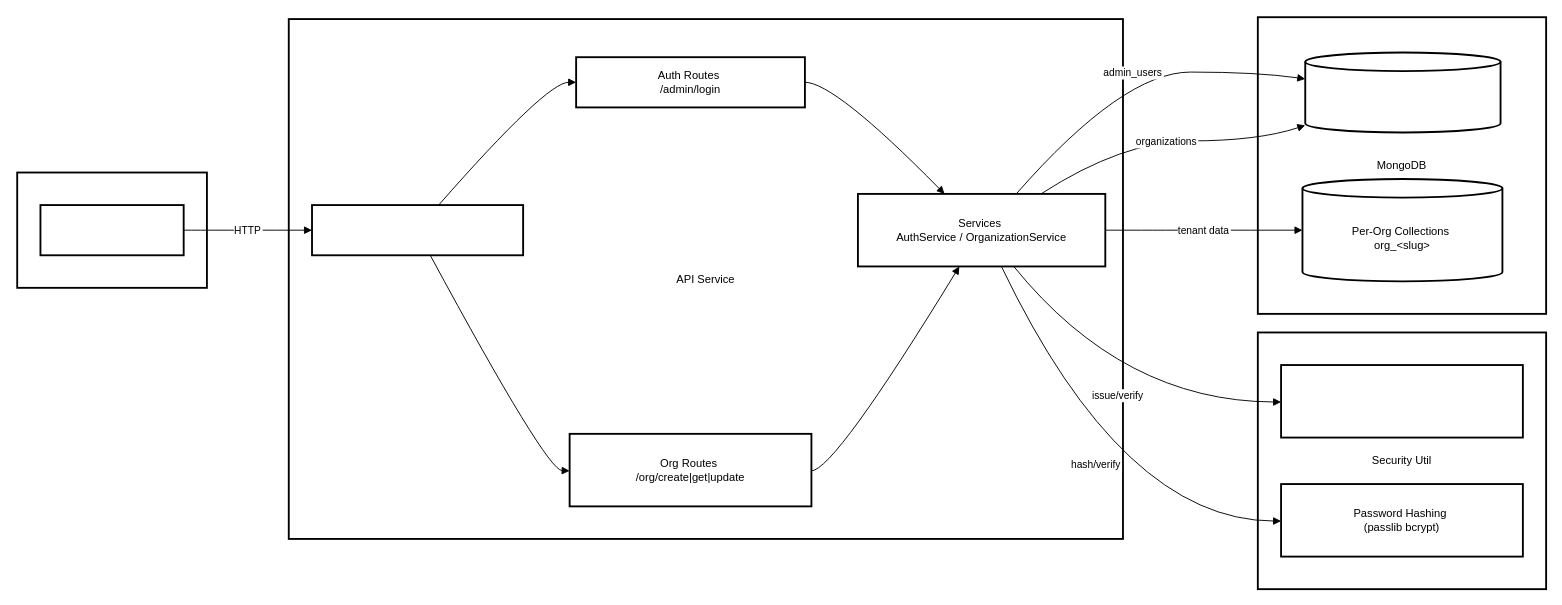
Image size: 1562x605. Some labels were removed from this diagram. The box of each missing label's shape, as (x1, y1, x2, y2) in pixels:
FastAPI App (app.main): (311, 204, 524, 256)
JWT Issuer create_access_token: (1280, 364, 1523, 438)
Master DB (org_master_db): (1304, 51, 1501, 133)
User / Admin: (39, 204, 184, 256)
